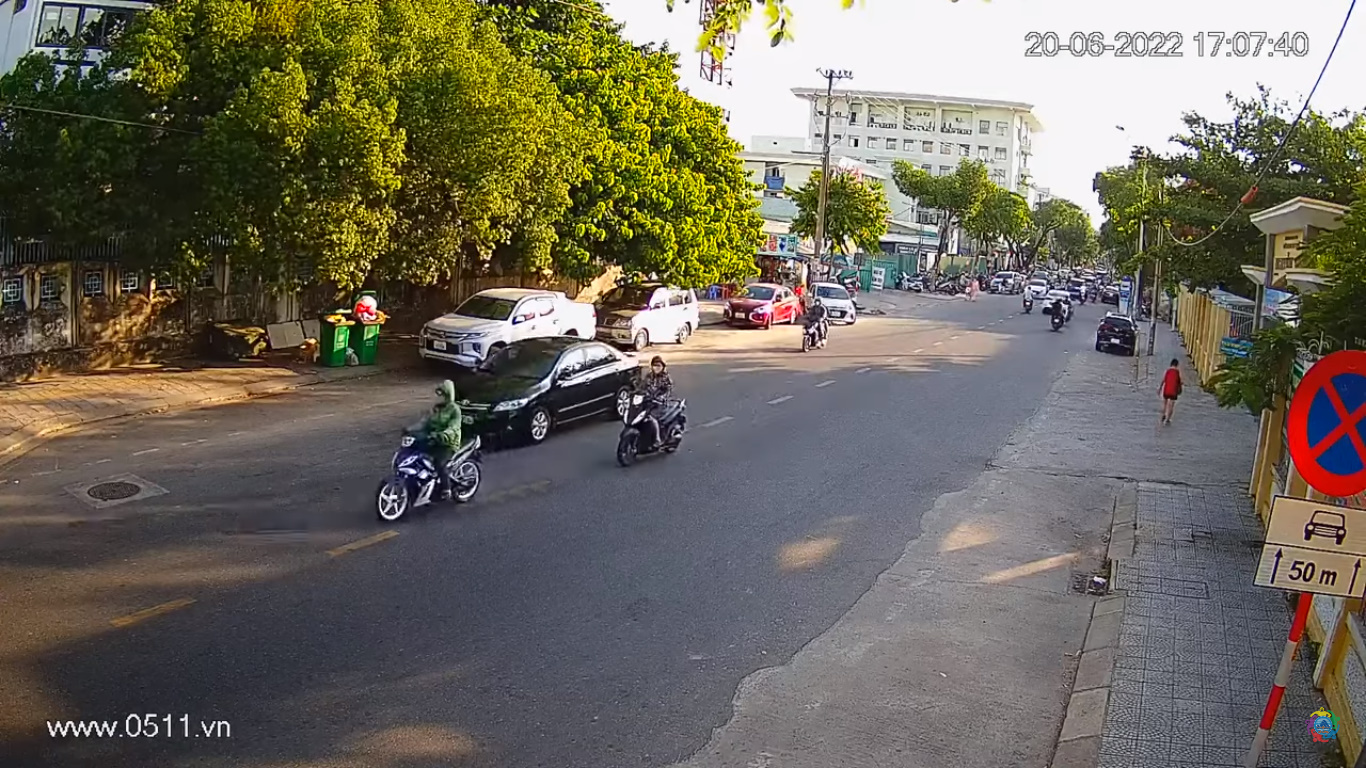car: (442, 330, 647, 451)
